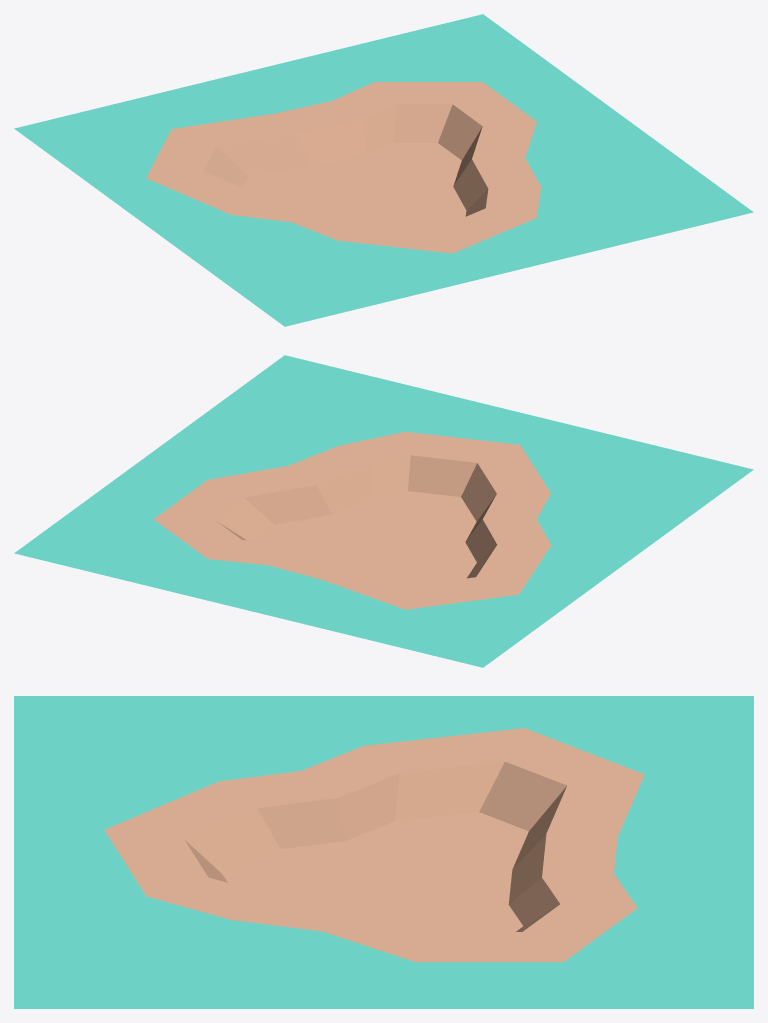
File: ground_pathTile.glb
3 renders of one model, top to bottom at view 1: azimuth 30°, elevation 25°; view 2: azimuth 150°, elevation 25°; view 3: azimuth 270°, elevation 25°, orthographic. The views are drawn at different scales.
Visible parts, largest first — view 1: ground_pathTile; view 2: ground_pathTile; view 3: ground_pathTile.
Boxes of the visible parts, x1,y1,x2,y2 form: ground_pathTile: (14,14,753,326); ground_pathTile: (14,355,753,667); ground_pathTile: (14,696,753,1008).
Bounding box in the file's own units: 1 × 0.05 × 1.
Materials: 1 (1 with a texture image).
